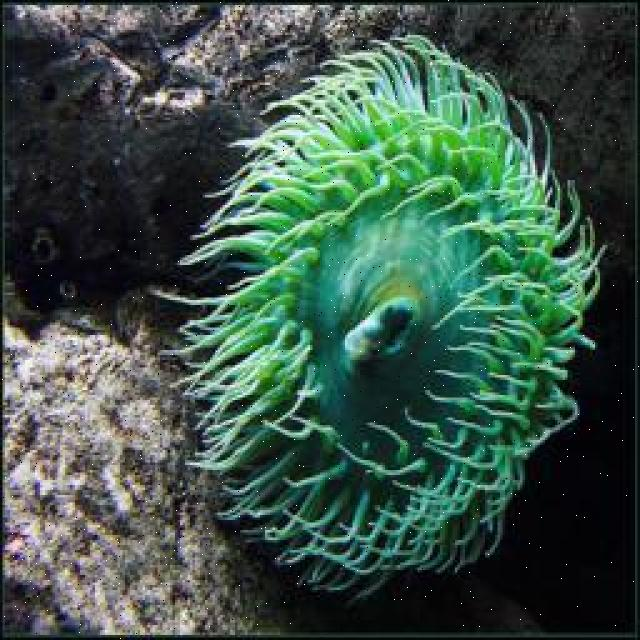reefs: (147, 34, 608, 606)
